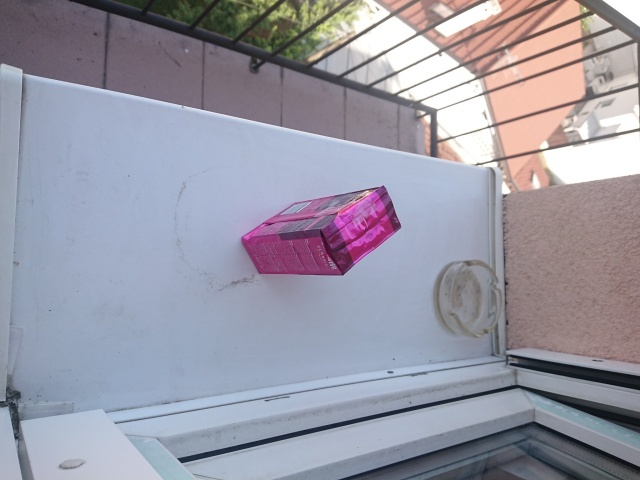Barcaffe Classic Original 225g: (240, 183, 404, 278)
